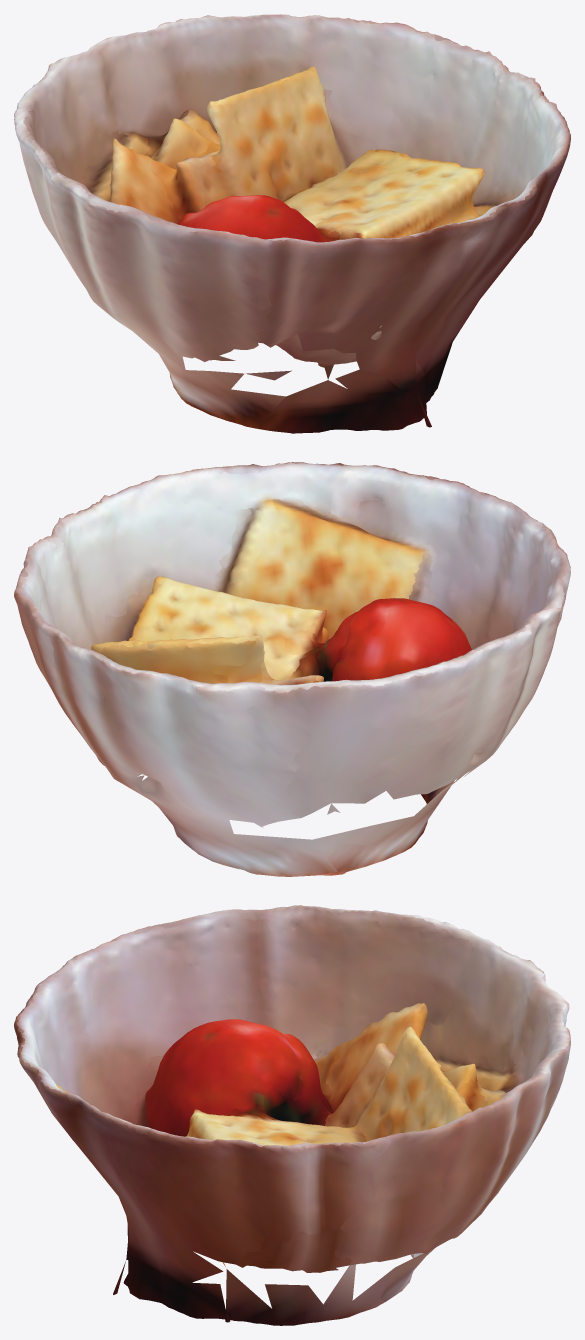
Rendered from bowl.glb.
The picture shows the model from 3 angles, top to bottom: view 1: azimuth 30°, elevation 25°; view 2: azimuth 150°, elevation 25°; view 3: azimuth 270°, elevation 25°; orthographic projection.
Visible parts, largest first — view 1: Object_2; view 2: Object_2; view 3: Object_2.
Boxes of the visible parts, x1,y1,x2,y2 form: Object_2: [14, 14, 570, 433]; Object_2: [14, 462, 570, 876]; Object_2: [14, 905, 570, 1325].
Size of the model in its own units: 0.1587 by 0.0814 by 0.1615.
1 material, 1 textured.
